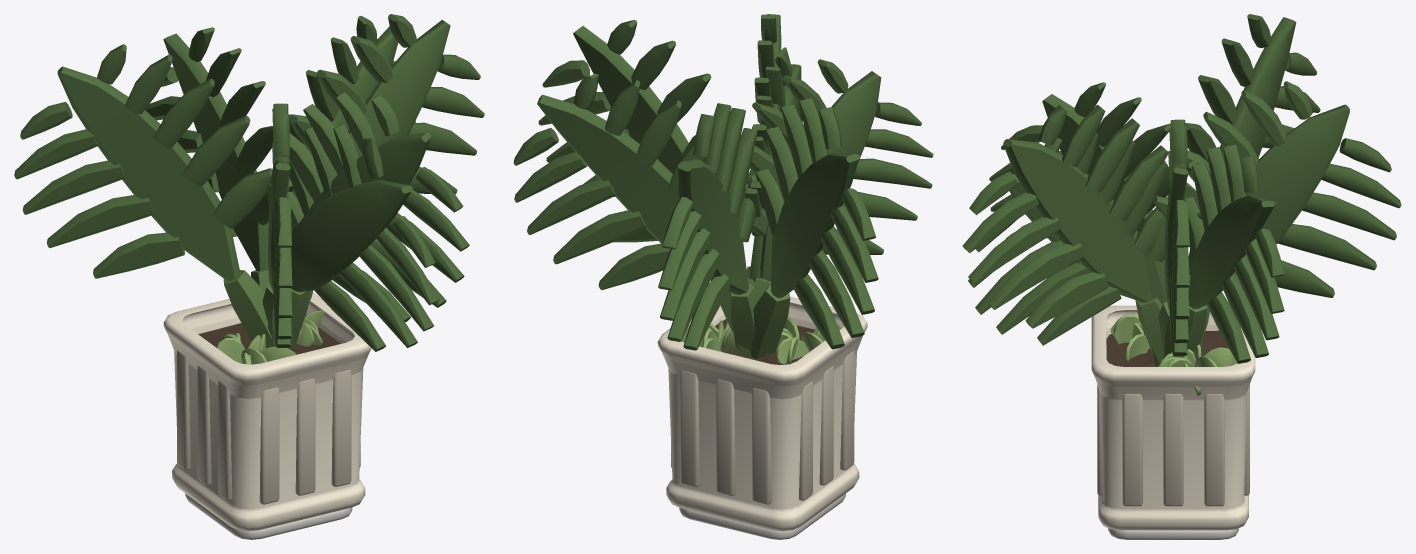
File: sujet_monstera.glb
3 views of the same model, side by side, from view 1: azimuth 30°, elevation 25°; view 2: azimuth 150°, elevation 25°; view 3: azimuth 270°, elevation 25° (orthographic).
Parts seen in each view (by area): view 1: SUA_Feuille_Fonce, SUA_Pot_Creme, SUA_Nervures, SUA_Tige, SUA_Feuille_Clair, SUA_Embase, SUA_Terre; view 2: SUA_Feuille_Fonce, SUA_Pot_Creme, SUA_Nervures, SUA_Tige, SUA_Feuille_Clair, SUA_Embase, SUA_Terre; view 3: SUA_Feuille_Fonce, SUA_Pot_Creme, SUA_Nervures, SUA_Tige, SUA_Feuille_Clair, SUA_Terre, SUA_Embase.
Boxes of the visible parts, x1,y1,x2,y2 form: SUA_Feuille_Fonce: (14,14,484,351); SUA_Pot_Creme: (163,292,371,531); SUA_Nervures: (177,350,360,504); SUA_Tige: (223,268,313,350); SUA_Feuille_Clair: (216,310,324,364); SUA_Embase: (185,493,352,539); SUA_Terre: (198,323,340,354); SUA_Feuille_Fonce: (513,14,933,350); SUA_Pot_Creme: (657,296,867,531); SUA_Nervures: (671,351,854,504); SUA_Tige: (720,266,790,358); SUA_Feuille_Clair: (681,317,841,364); SUA_Embase: (679,493,845,539); SUA_Terre: (715,319,814,364); SUA_Feuille_Fonce: (962,14,1401,363); SUA_Pot_Creme: (1091,305,1255,530); SUA_Nervures: (1097,384,1249,506); SUA_Tige: (1135,275,1209,365); SUA_Feuille_Clair: (1110,314,1237,395); SUA_Terre: (1106,330,1229,366); SUA_Embase: (1108,528,1238,539).
Size of the model in its own units: 1.4 by 1.51 by 1.34.
